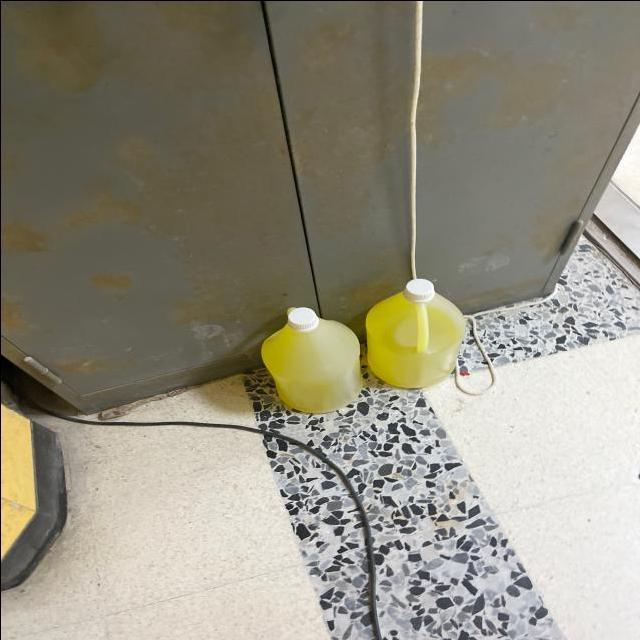HDPE Plastic: (361, 279, 470, 394), (262, 305, 366, 407)
